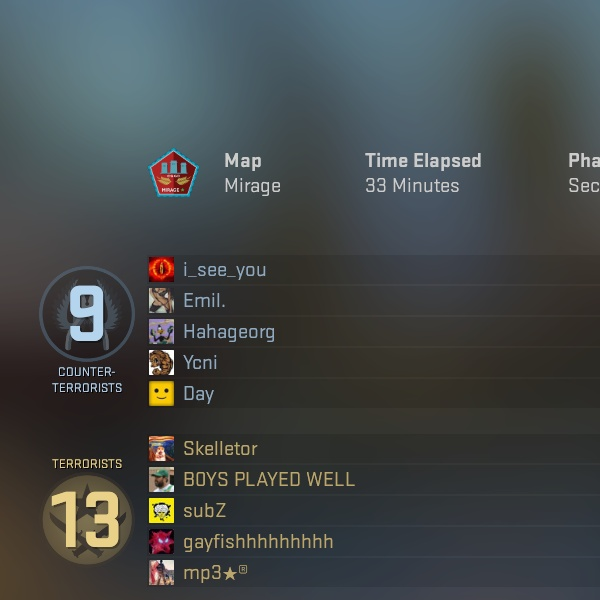t_body: (140, 517, 185, 593)
